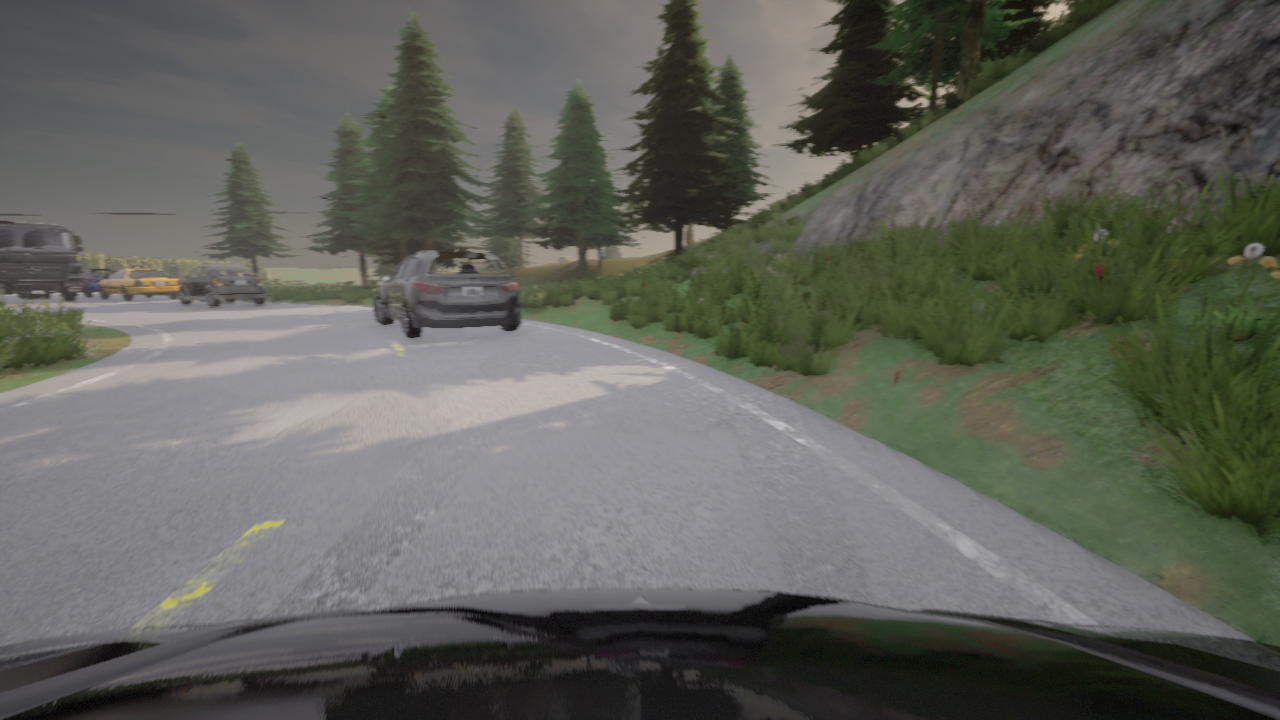cyclist: (0, 588, 1279, 719), (374, 250, 520, 337), (178, 264, 265, 306), (97, 266, 180, 300), (80, 269, 115, 296)
